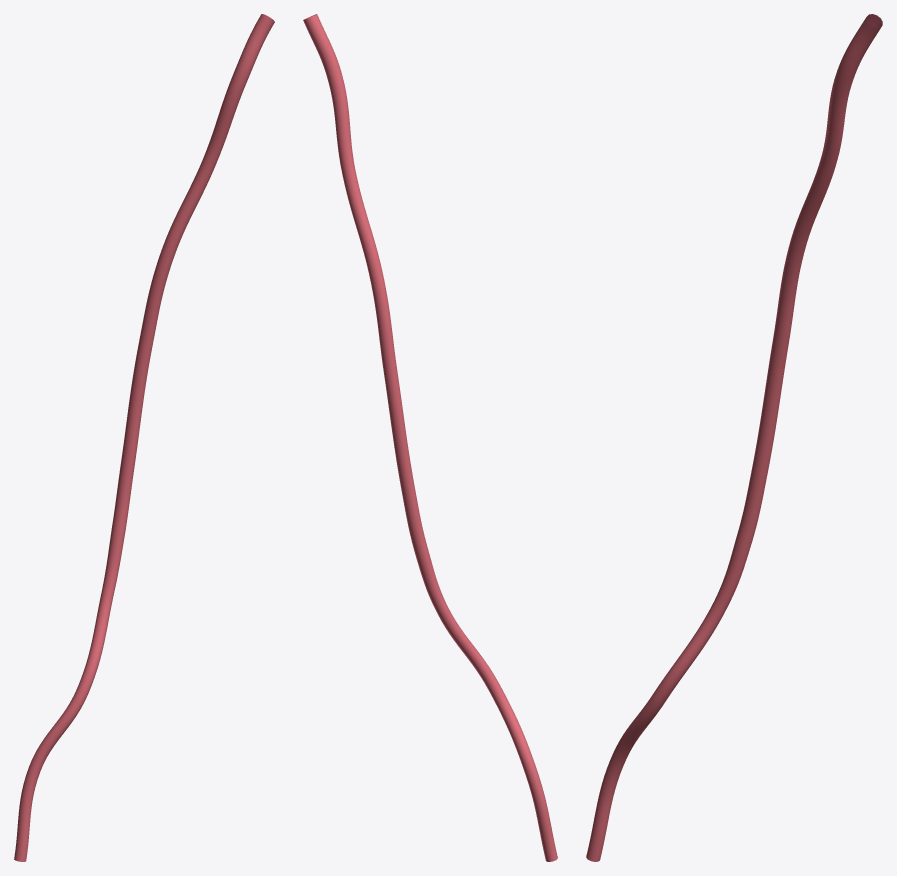
3 renders of one model, left to right at view 1: azimuth 30°, elevation 25°; view 2: azimuth 150°, elevation 25°; view 3: azimuth 330°, elevation 25°, orthographic. The views are drawn at different scales.
Visible parts, largest first — view 1: ZA_d5bf97d986cbbddc; view 2: ZA_d5bf97d986cbbddc; view 3: ZA_d5bf97d986cbbddc.
Boxes of the visible parts, x1,y1,x2,y2 form: ZA_d5bf97d986cbbddc: [14, 14, 274, 861]; ZA_d5bf97d986cbbddc: [303, 14, 557, 861]; ZA_d5bf97d986cbbddc: [586, 14, 882, 861].
Bounding box in the file's own units: 0.0939 × 0.2764 × 0.0182.
